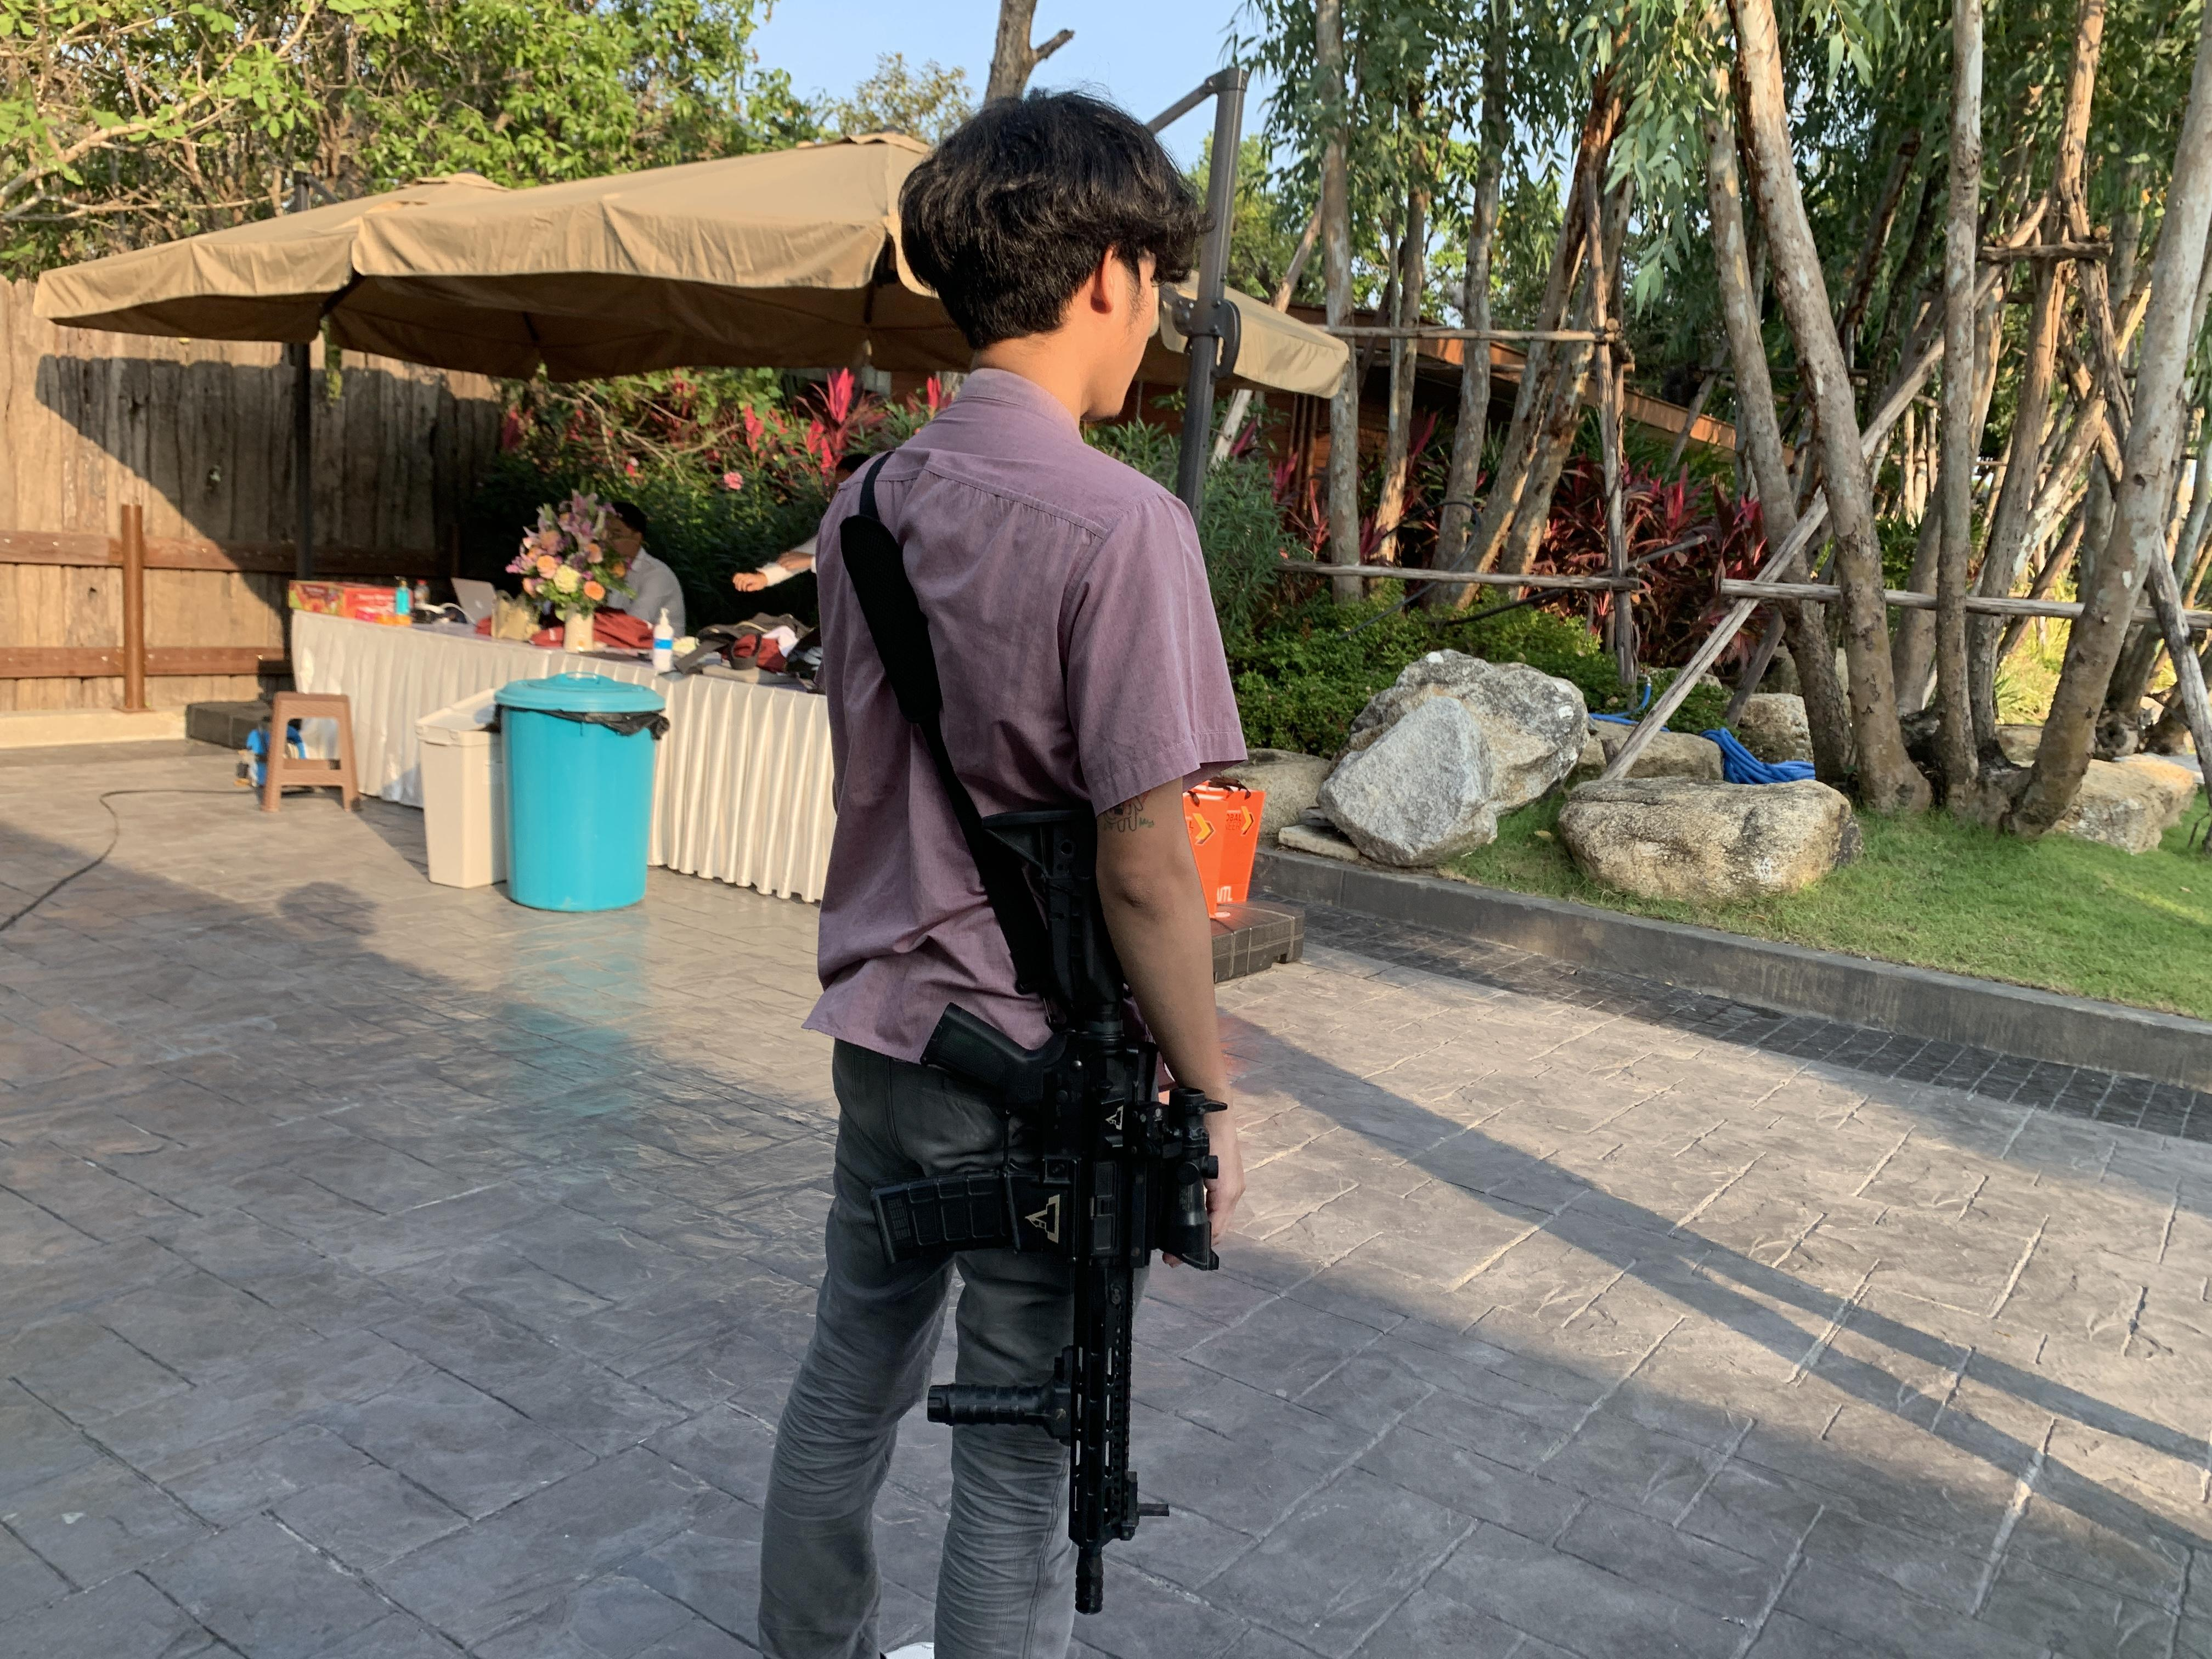criminal: (756, 89, 1254, 1659)
weapon: (890, 798, 1226, 1624)
